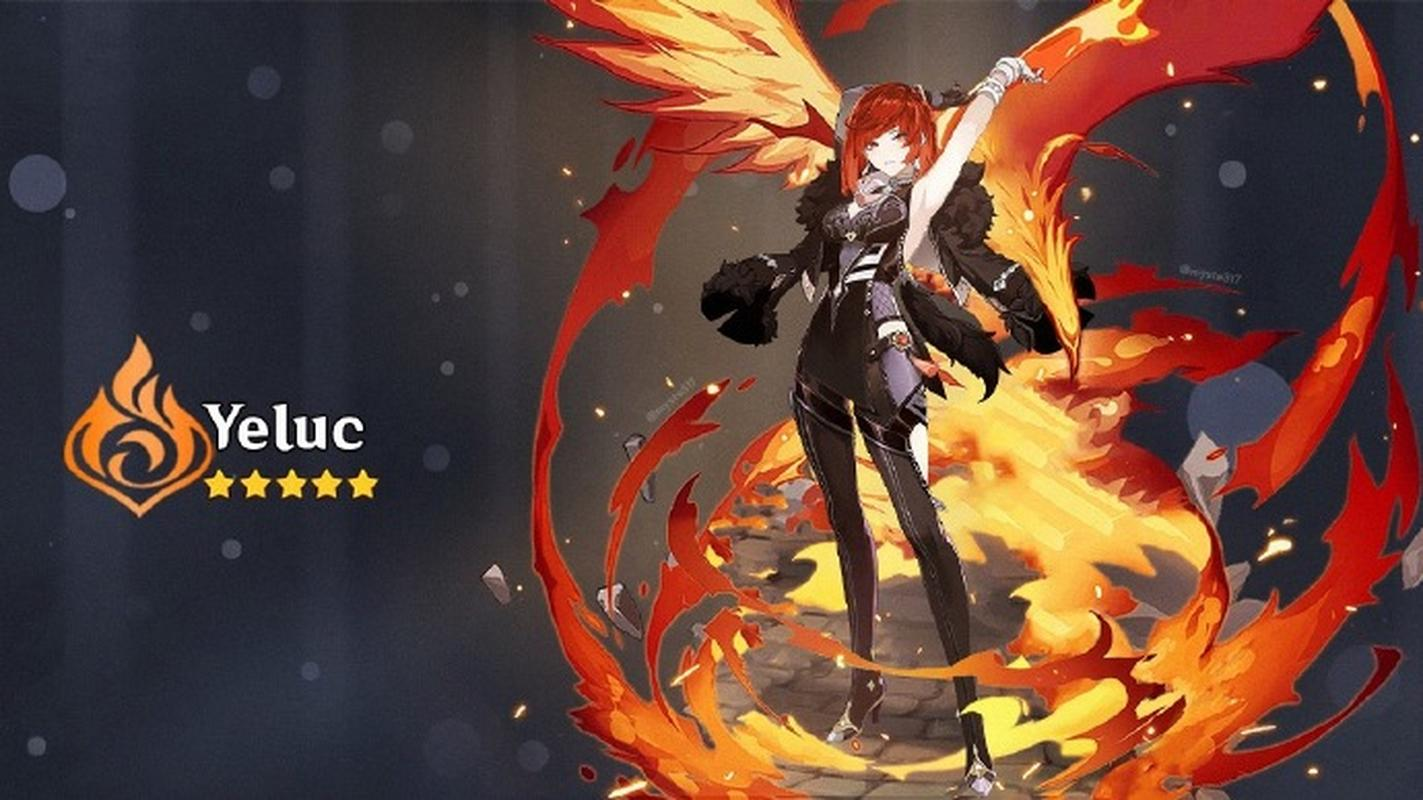夜兰: (791, 51, 1047, 800)
